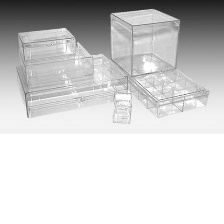plastic_box: (12, 50, 132, 121), (106, 49, 213, 121), (105, 3, 185, 79), (15, 38, 97, 90), (14, 23, 79, 63), (110, 89, 134, 114)
